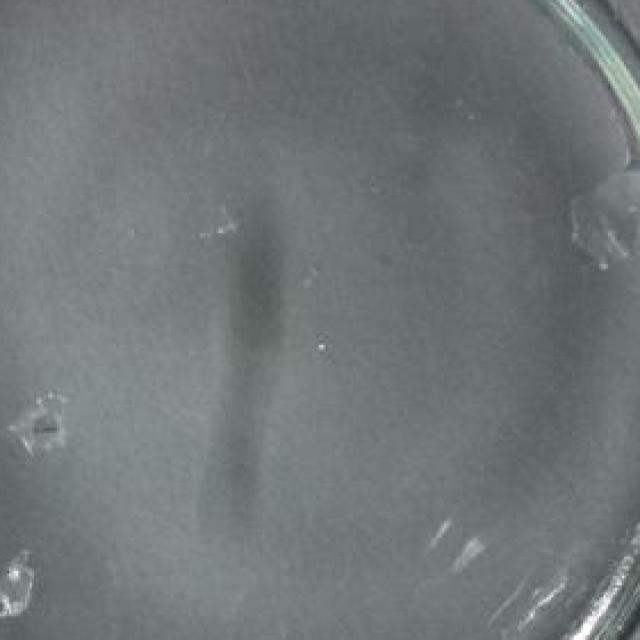Microplastic: (565, 152, 640, 274), (4, 395, 78, 454), (0, 550, 41, 621), (189, 195, 244, 243)
